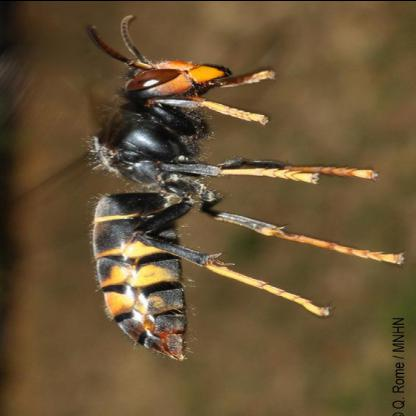asian: (69, 17, 390, 354)
